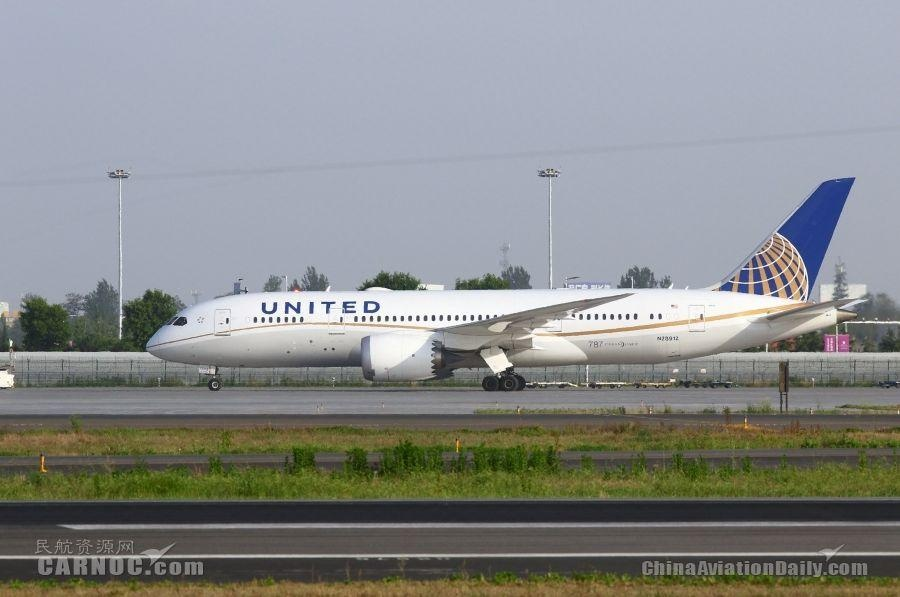airplane: (142, 174, 871, 386)
